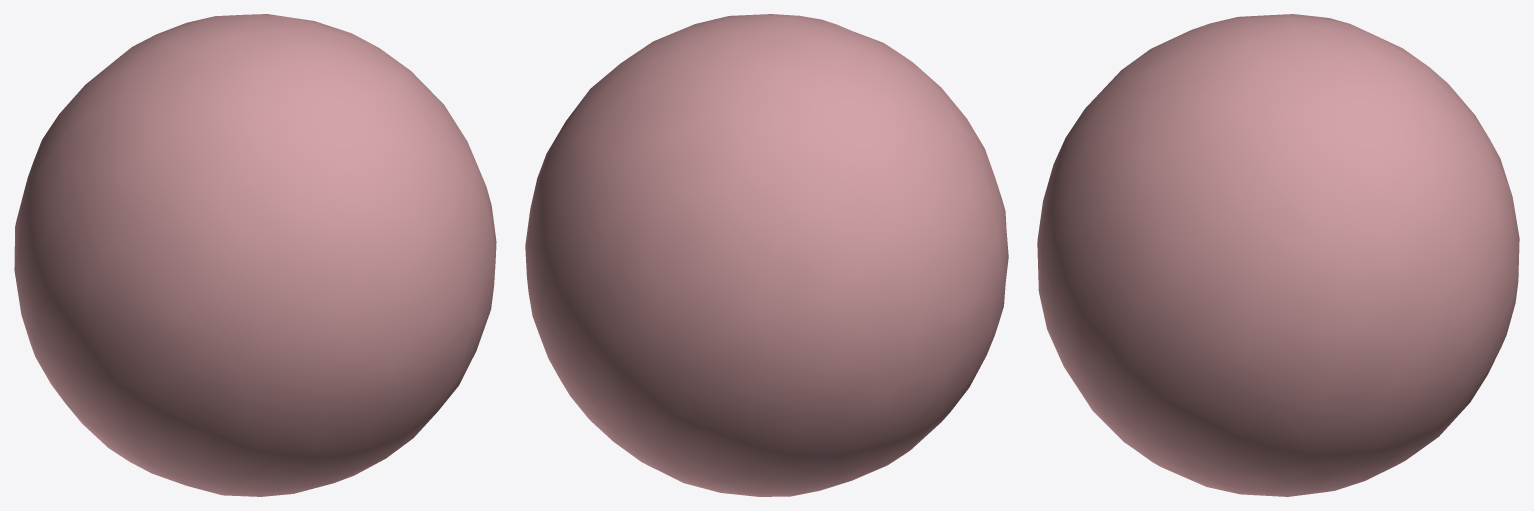
Rendered from fma56433_mm840m.glb.
3 renders of one model, left to right at view 1: azimuth 30°, elevation 25°; view 2: azimuth 150°, elevation 25°; view 3: azimuth 270°, elevation 25°, orthographic.
Parts seen in each view (by area): view 1: FMA56433_MM840M; view 2: FMA56433_MM840M; view 3: FMA56433_MM840M.
Part boxes in pixels (x1,y1,x2,y2): FMA56433_MM840M: (14,14,496,496); FMA56433_MM840M: (525,14,1008,496); FMA56433_MM840M: (1037,14,1519,496).
Size of the model in its own units: 0.0109 by 0.0108 by 0.0108.
